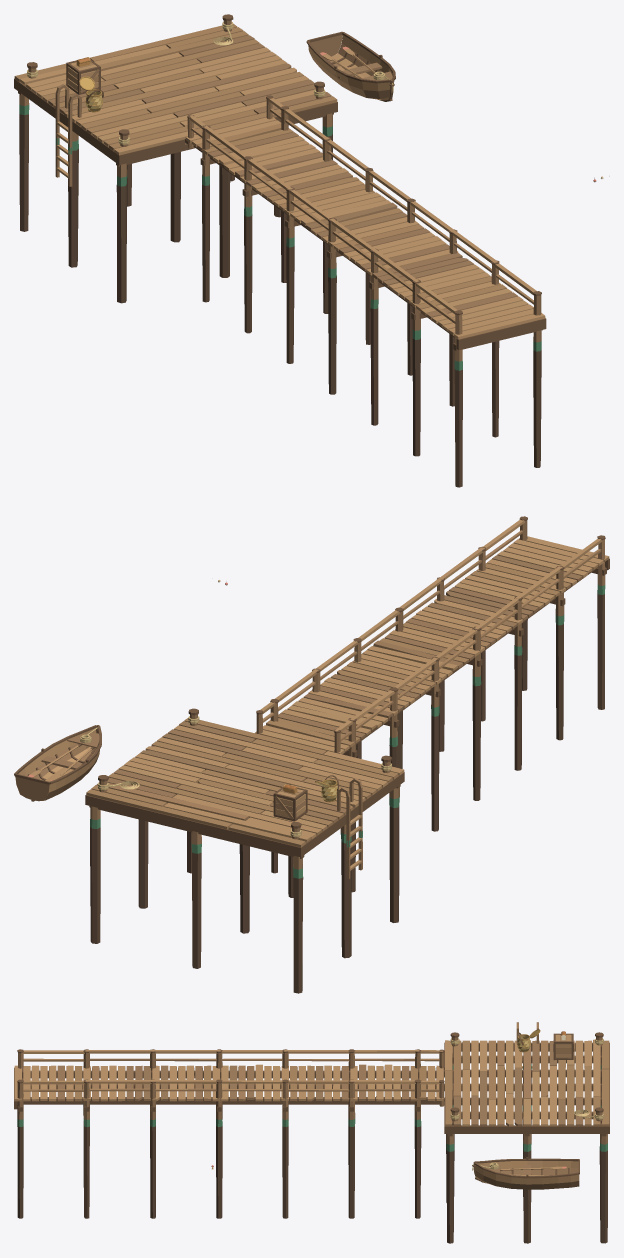
File: props.glb
The picture shows the model from 3 angles, top to bottom: view 1: azimuth 30°, elevation 25°; view 2: azimuth 150°, elevation 25°; view 3: azimuth 270°, elevation 25°; orthographic projection. The views are drawn at different scales.
Parts seen in each view (by area): view 1: pier, boat, crate; view 2: pier, boat, crate; view 3: pier, boat, crate.
Boxes of the visible parts, <box> form: pier: <box>14,14,546,487</box>; boat: <box>306,31,395,101</box>; crate: <box>66,59,100,94</box>; pier: <box>85,516,609,993</box>; boat: <box>14,725,101,801</box>; crate: <box>273,786,307,821</box>; pier: <box>14,1022,609,1243</box>; boat: <box>472,1157,579,1189</box>; crate: <box>553,1033,573,1060</box>.
Size of the model in its own units: 9.52 by 4.76 by 18.
